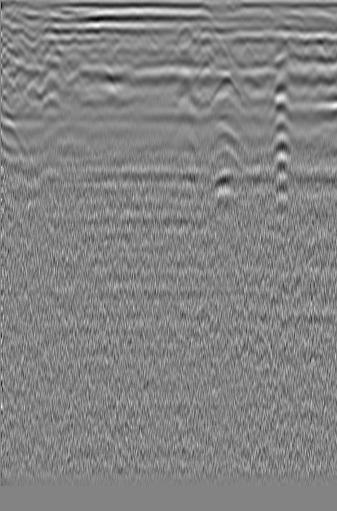가스: (207, 166, 240, 198)
상수: (38, 35, 66, 63)
오수: (264, 69, 297, 105)
우수: (155, 34, 184, 65)
